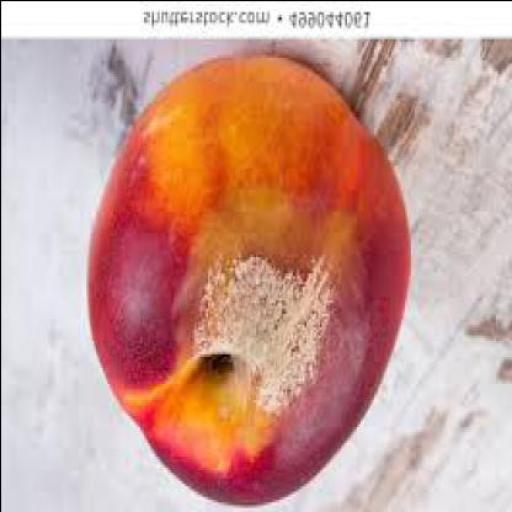biodegradable: (85, 56, 407, 510)
